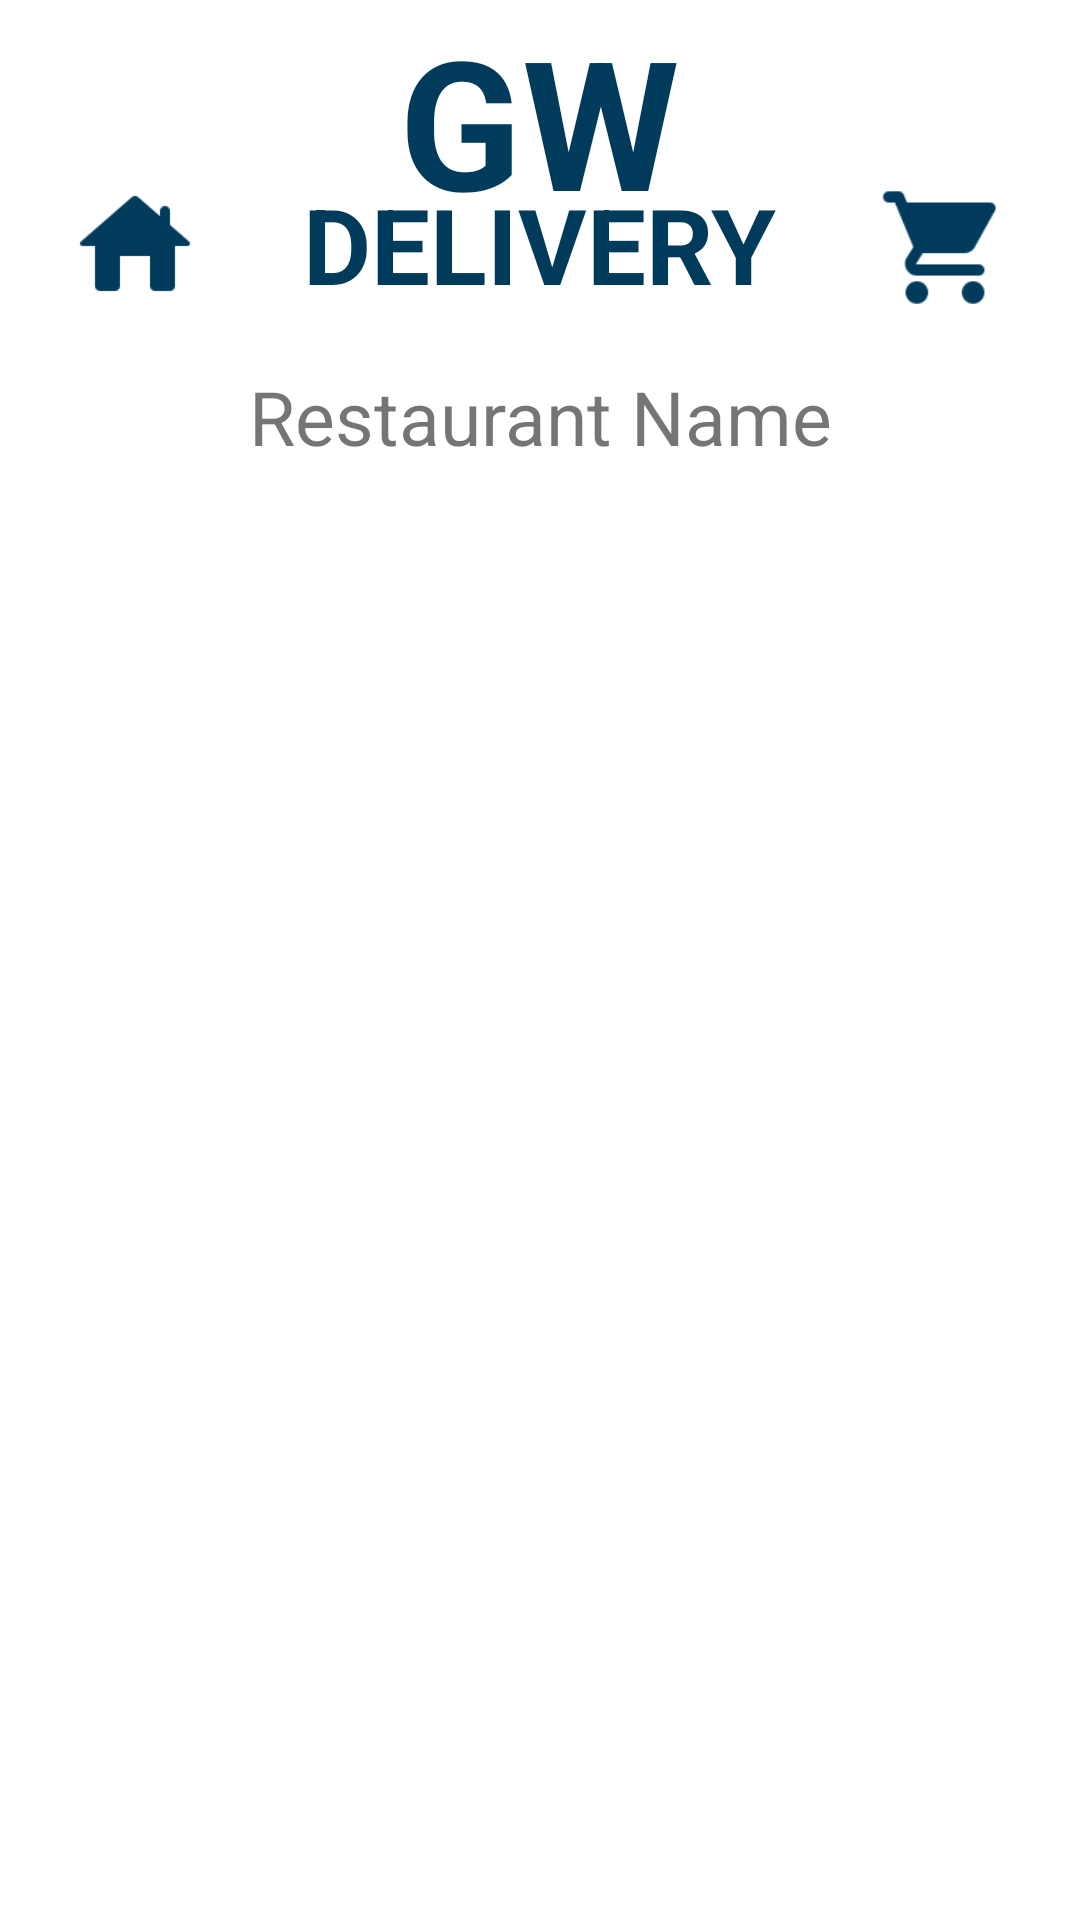

Where to tap for icons on this 1080*1920 app screen, as (x=x, y=y):
home: (x=135, y=244)
shopping cart: (x=939, y=247)
